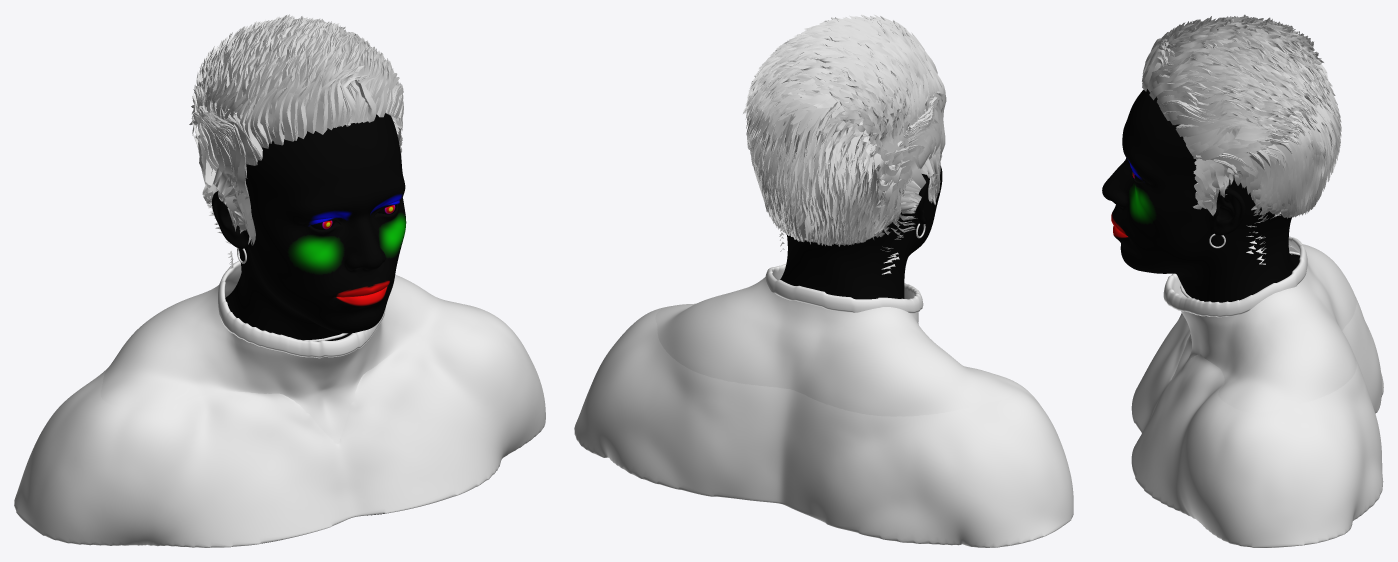
Rendered from male.glb.
3 views of the same model, side by side, from view 1: azimuth 30°, elevation 25°; view 2: azimuth 150°, elevation 25°; view 3: azimuth 270°, elevation 25° (orthographic). The views are drawn at different scales.
Parts seen in each view (by area): view 1: TOP_M_VNECK, BODY_M, TOP_M_TURTLE, HAIRCARD_M; view 2: TOP_M_VNECK, HAIRCARD_M, TOP_M_TURTLE, BODY_M; view 3: TOP_M_VNECK, HAIRCARD_M, BODY_M, TOP_M_TURTLE.
Part boxes in pixels (left/top/right/bottom): TOP_M_VNECK: left=14, top=304, right=545, bottom=547; BODY_M: left=212, top=113, right=406, bottom=543; TOP_M_TURTLE: left=100, top=261, right=481, bottom=444; HAIRCARD_M: left=189, top=14, right=403, bottom=268; TOP_M_VNECK: left=574, top=306, right=1073, bottom=547; HAIRCARD_M: left=743, top=14, right=946, bottom=274; TOP_M_TURTLE: left=655, top=264, right=1014, bottom=416; BODY_M: left=780, top=166, right=942, bottom=299; TOP_M_VNECK: left=1131, top=254, right=1383, bottom=547; HAIRCARD_M: left=1142, top=14, right=1341, bottom=264; BODY_M: left=1102, top=89, right=1299, bottom=302; TOP_M_TURTLE: left=1163, top=236, right=1356, bottom=412.
Bounding box in the file's own units: 0.5299 × 0.4621 × 0.2828.
